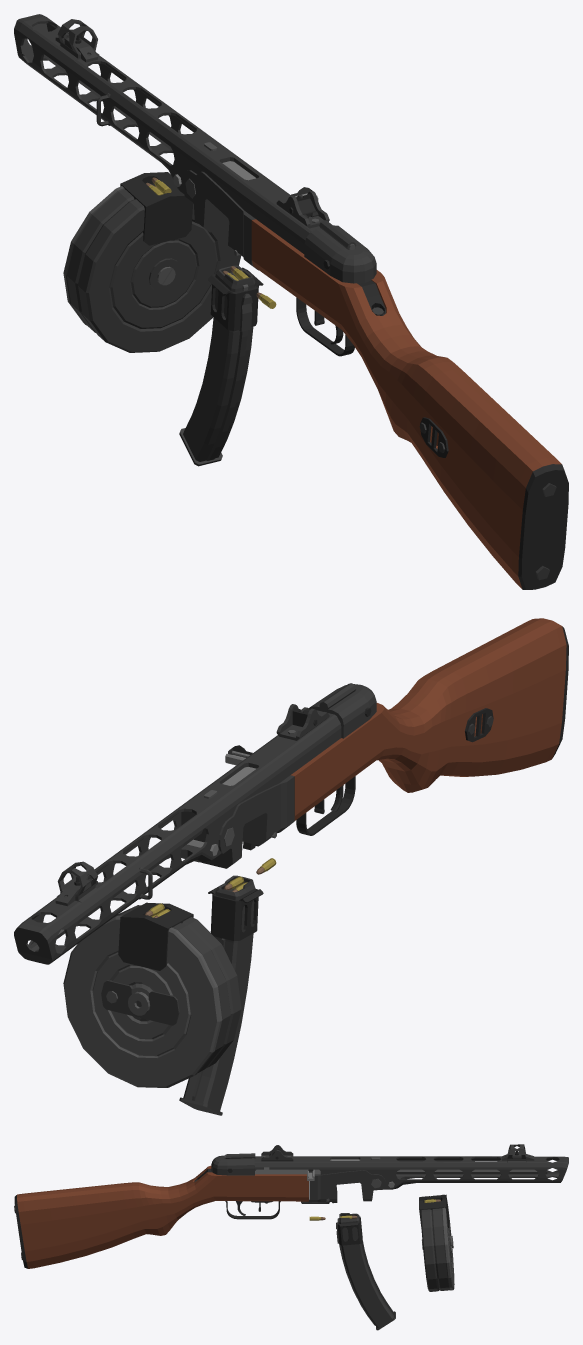
The model's file is ppsh.glb.
3 views of the same model, one above another, from view 1: azimuth 30°, elevation 25°; view 2: azimuth 150°, elevation 25°; view 3: azimuth 270°, elevation 25° (orthographic). The views are drawn at different scales.
Parts seen in each view (by area): view 1: PPSH, PPSH_Mag_Drum, Cube.003; view 2: PPSH, PPSH_Mag_Drum, Cube.003; view 3: PPSH, Cube.003, PPSH_Mag_Drum.
Part boxes in pixels (box(x1,y1,x2,y2)): PPSH: box(14, 14, 568, 589); PPSH_Mag_Drum: box(63, 172, 240, 352); Cube.003: box(179, 265, 263, 466); PPSH: box(14, 618, 568, 964); PPSH_Mag_Drum: box(63, 902, 241, 1087); Cube.003: box(179, 875, 263, 1115); PPSH: box(14, 1144, 568, 1268); Cube.003: box(336, 1213, 395, 1330); PPSH_Mag_Drum: box(419, 1194, 454, 1291).
Bounding box in the file's own units: 2.51 × 5.25 × 14.44.
